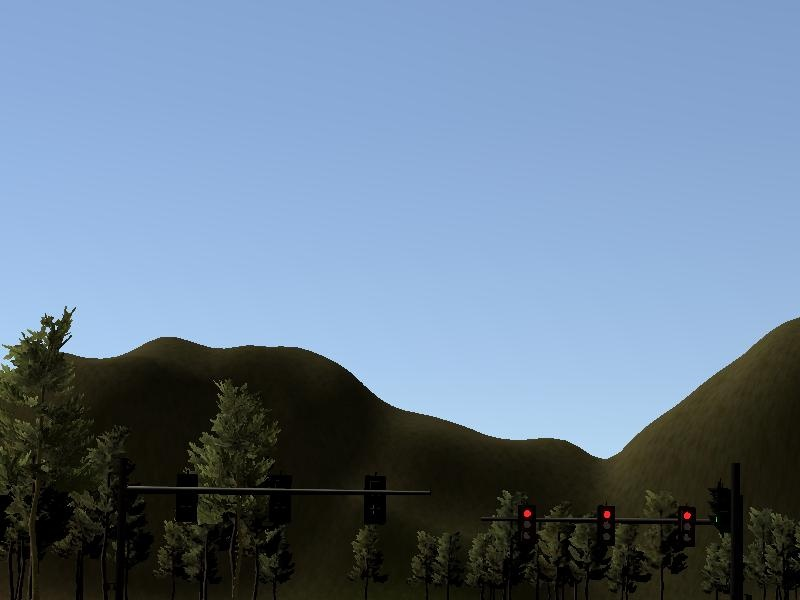traffic_light_red: (497, 504, 726, 552)
